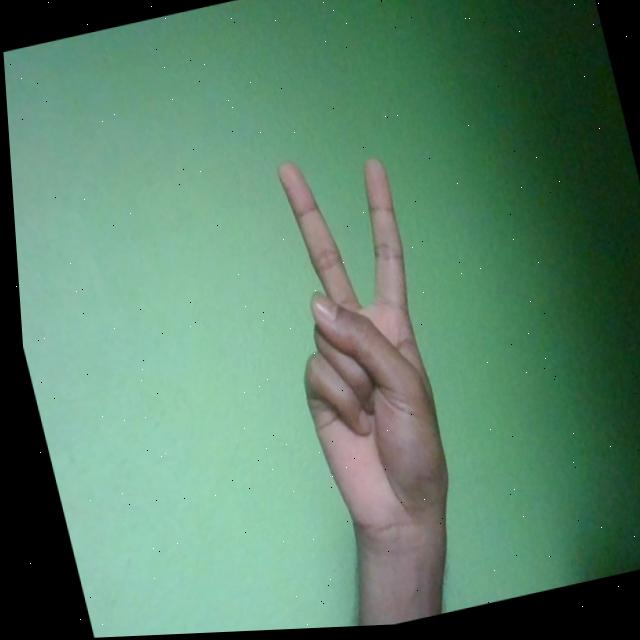Peace: (245, 139, 464, 552)
